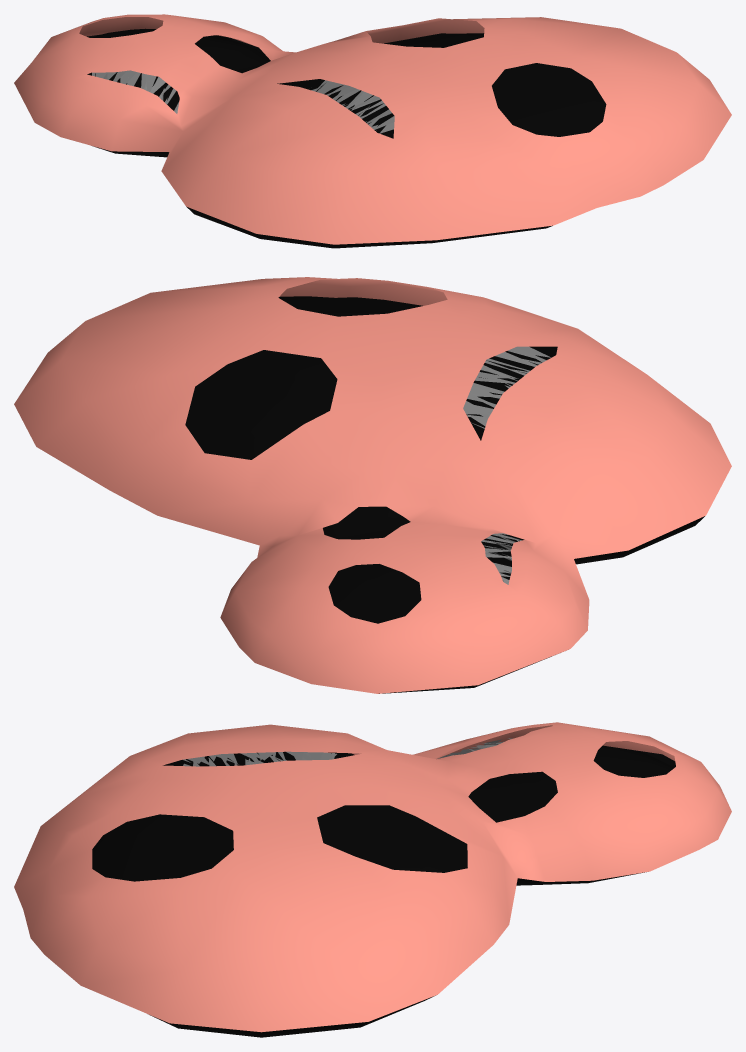
File: Mask_03.fbx
The picture shows the model from 3 angles, top to bottom: view 1: azimuth 30°, elevation 25°; view 2: azimuth 150°, elevation 25°; view 3: azimuth 270°, elevation 25°; orthographic projection. The views are drawn at different scales.
Parts seen in each view (by area): view 1: Masks_03; view 2: Masks_03; view 3: Masks_03.
Part boxes in pixels (x1,y1,x2,y2): Masks_03: (14,14,731,248); Masks_03: (14,277,731,693); Masks_03: (14,722,731,1037).
Size of the model in its own units: 66.69 by 10.53 by 67.45.
